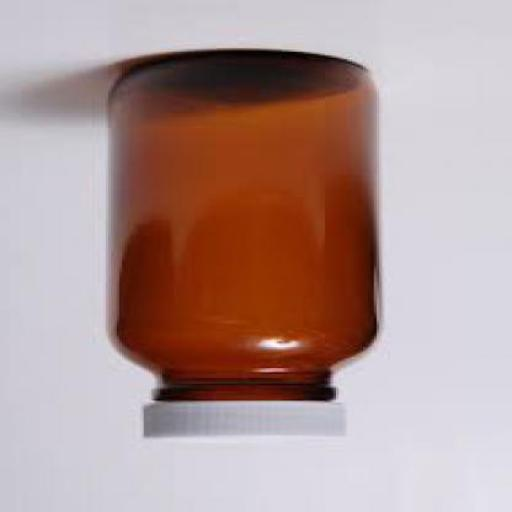glass: (103, 50, 379, 402)
plastic: (138, 403, 344, 445)
